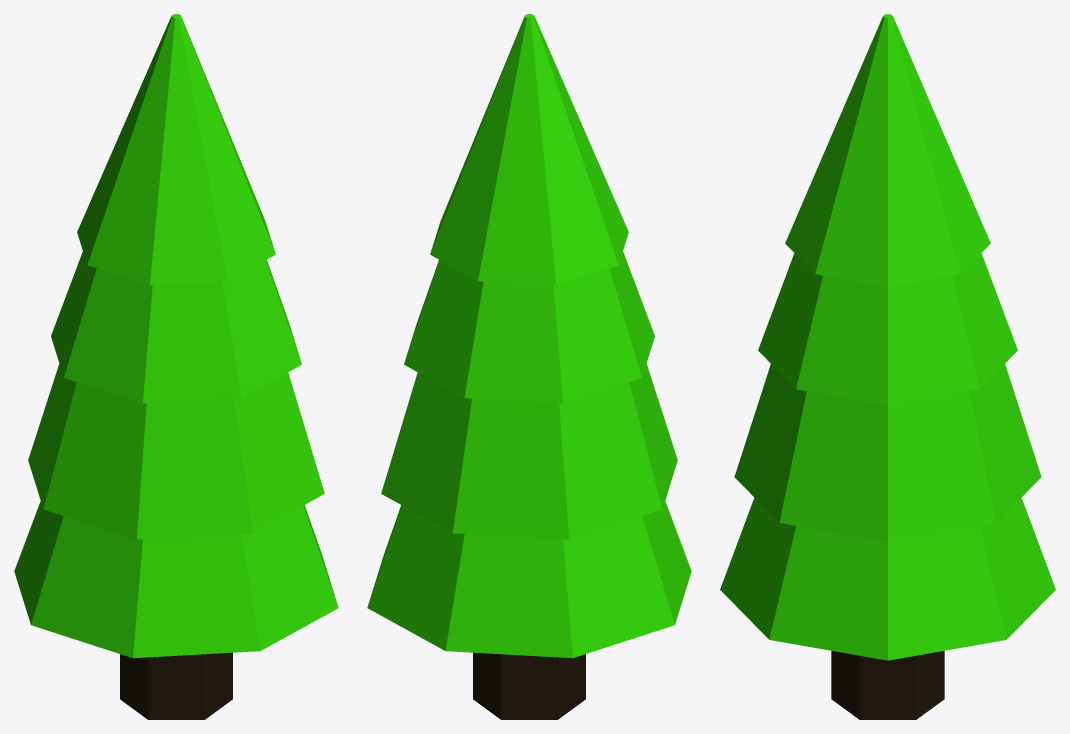
File: tree_02.fbx
3 views of the same model, side by side, from view 1: azimuth 30°, elevation 25°; view 2: azimuth 150°, elevation 25°; view 3: azimuth 270°, elevation 25° (orthographic).
Visible parts, largest first — view 1: Tree_02; view 2: Tree_02; view 3: Tree_02.
Part boxes in pixels (x1,y1,x2,y2): Tree_02: [14, 14, 338, 719]; Tree_02: [367, 14, 691, 719]; Tree_02: [720, 14, 1055, 719].
Size of the model in its own units: 300 by 672 by 300.
